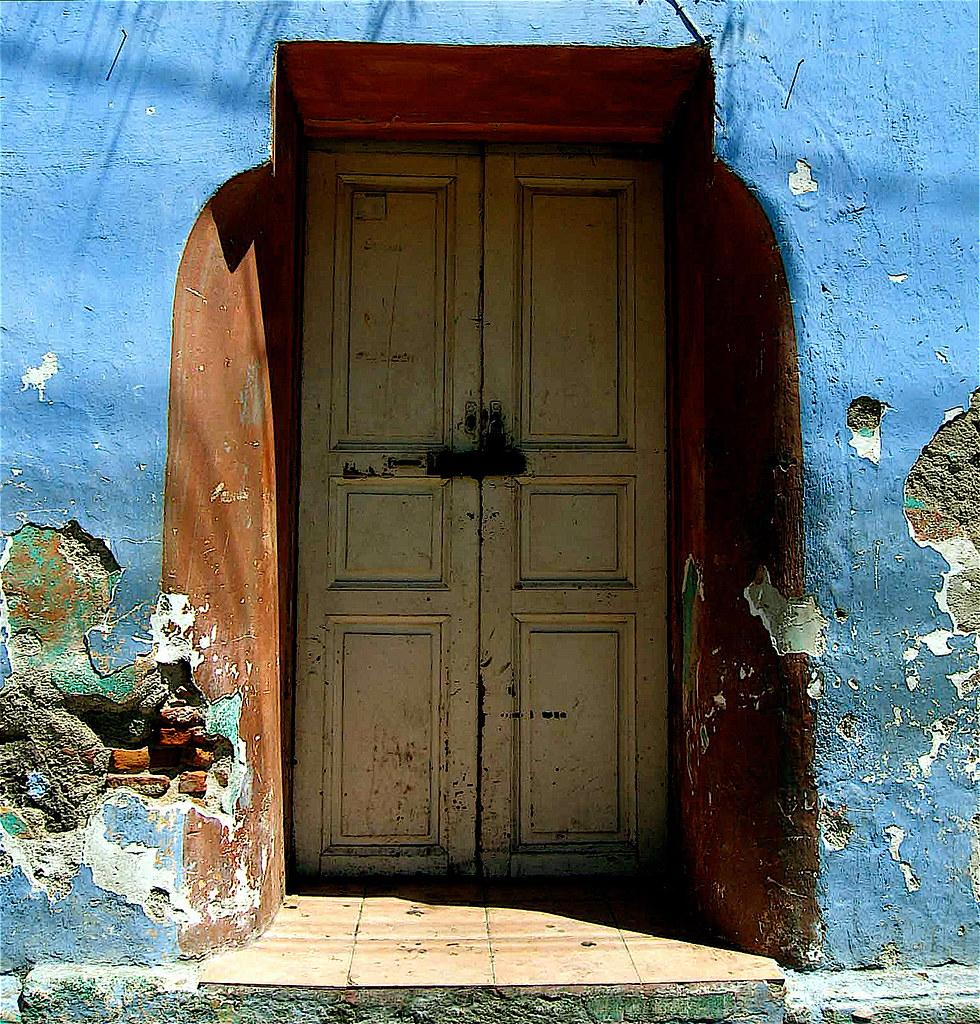door: (291, 139, 672, 883)
